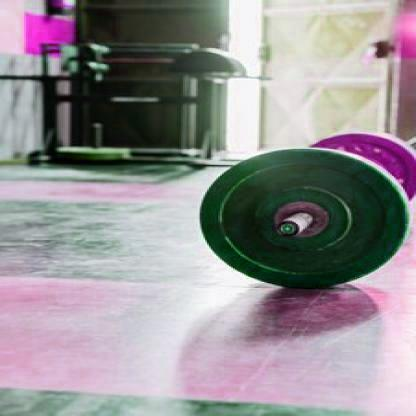Barbell: (268, 218, 303, 243)
